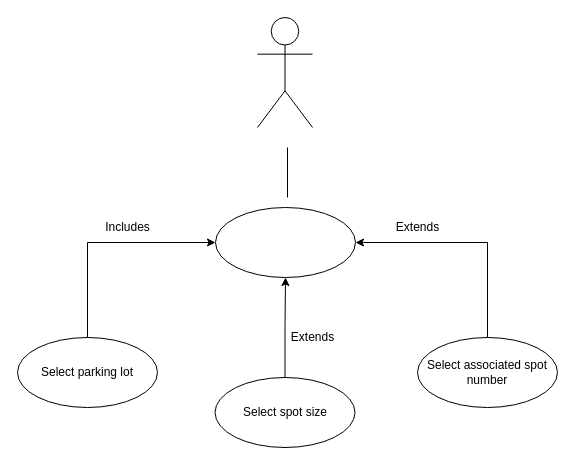
This 575x465 diagram has some shape labels left out. The shapes that lost their labels are listed below. From the top down, each one's centre as x and y in pixels, then its label:
At [284,72]: "Parking Lot Owner".
At [285,242]: "Add parking spot(s)".
